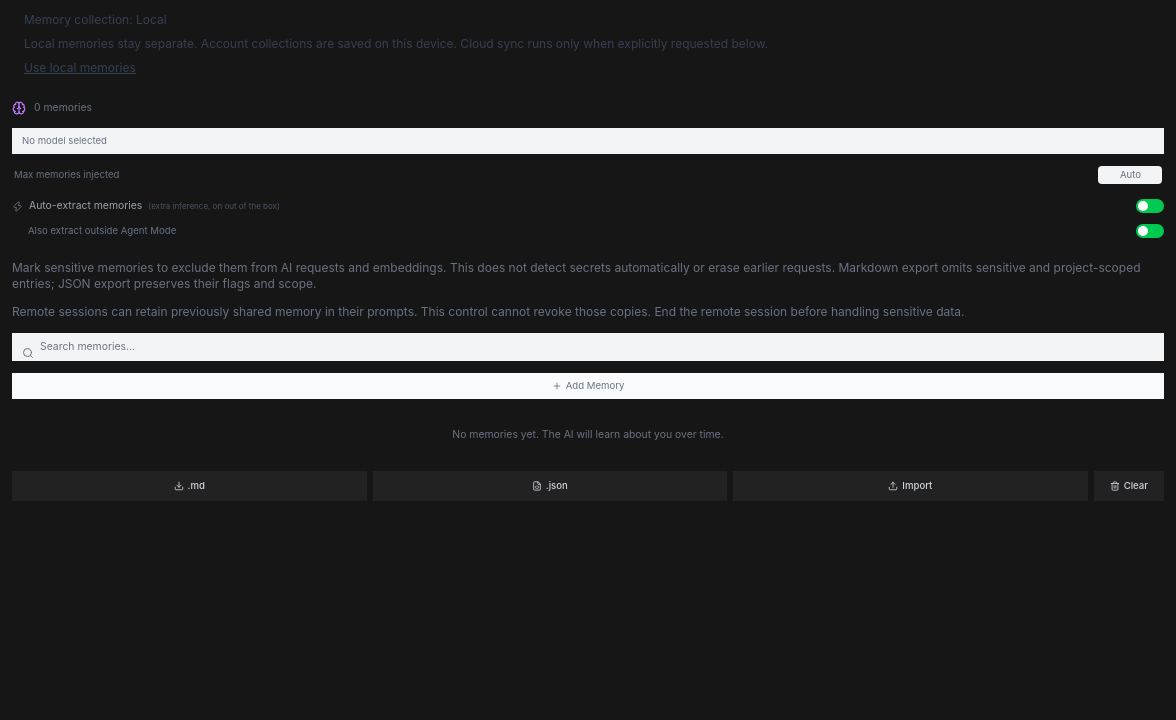
Scenario: das Erinnerungsformular › POSITIVKONTROLLE: ohne Zwilling speichert das Formular und raeumt sich auf
Click the button "Add Memory" at (588, 386), box [12, 373, 1164, 399]
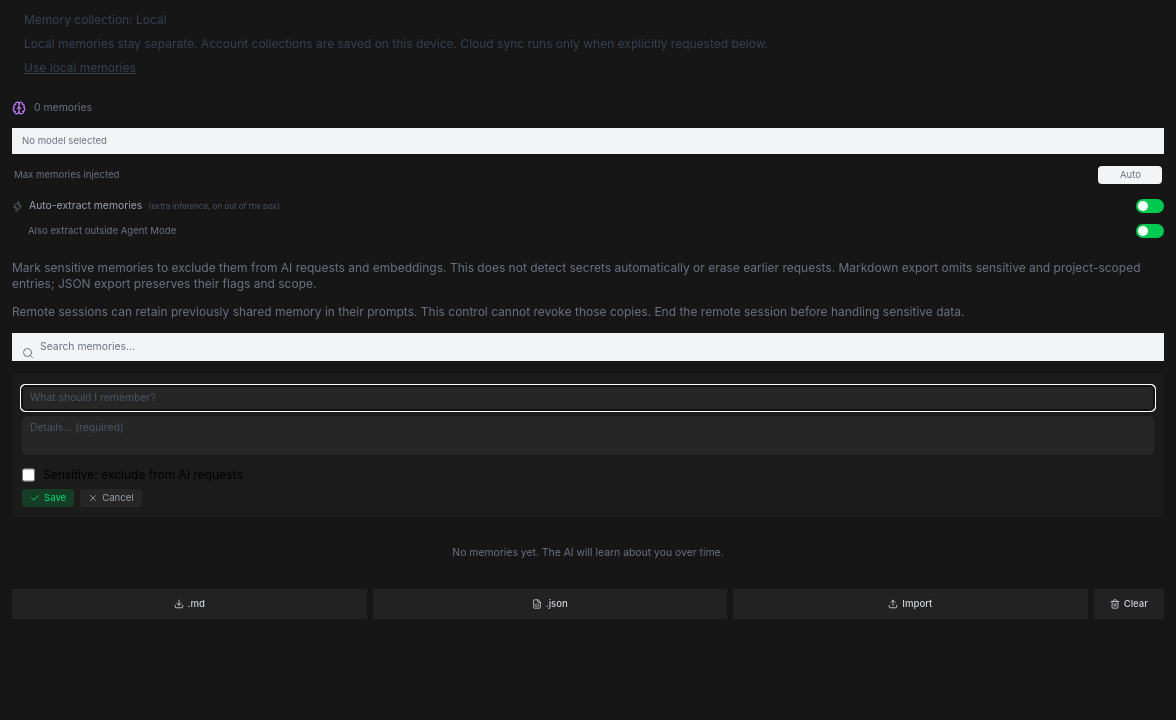
Type "Neue Sache" into the field with placeholder "What should I remember?" at (588, 398), box [22, 386, 1154, 410]
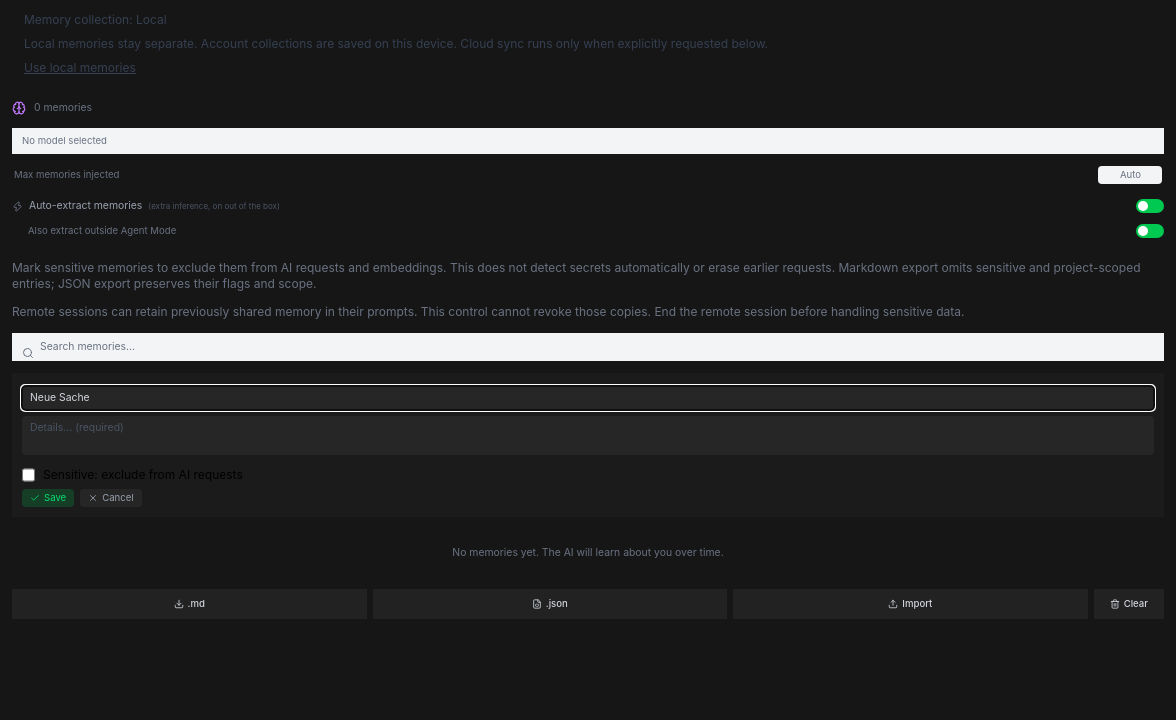
Type "Etwas, das noch nicht in der Sammlung steht." into the text box with placeholder "Details… (required)" at (588, 435), box [22, 416, 1154, 455]
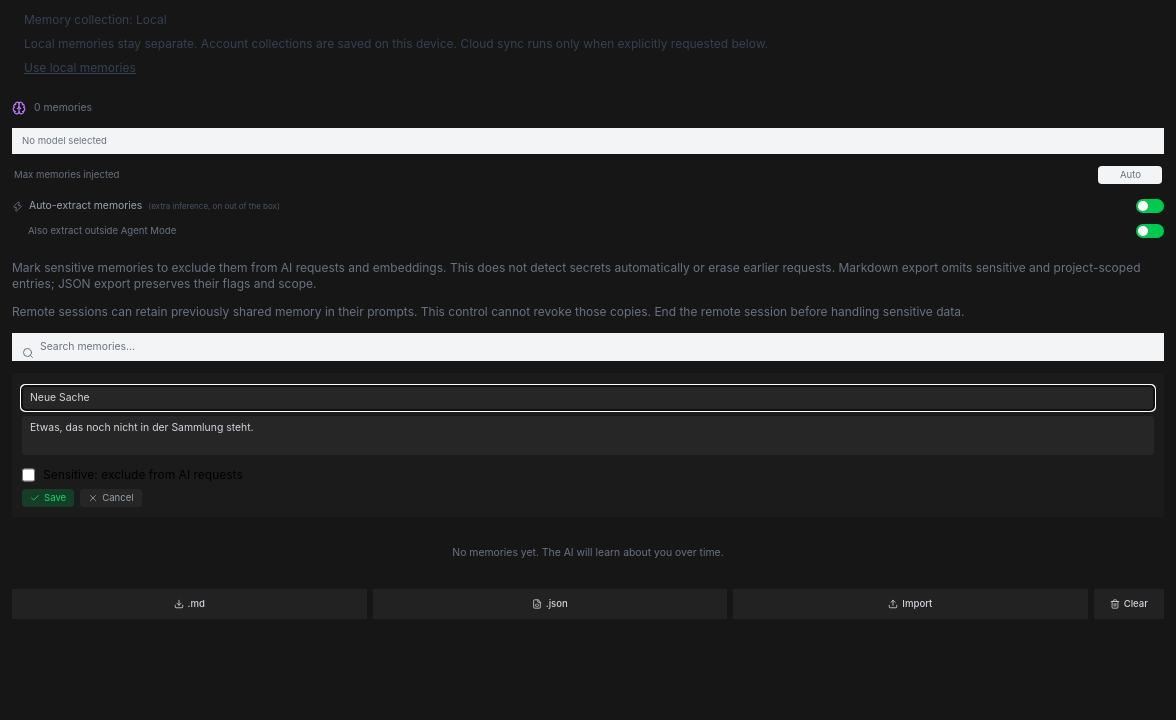
Click the button "Save" at (48, 498), box [22, 489, 74, 507]
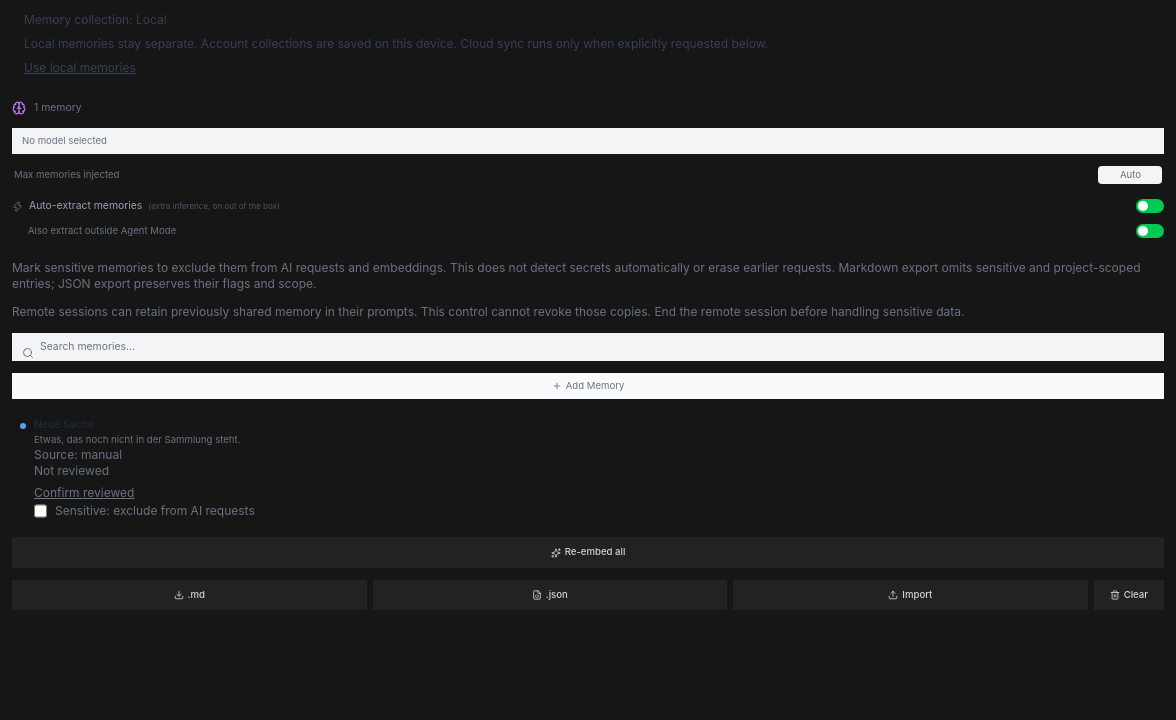
Expected: the field with placeholder "What should I remember?" is not shown
Expected: the button "Add Memory" is shown, [12, 373, 1164, 399]
